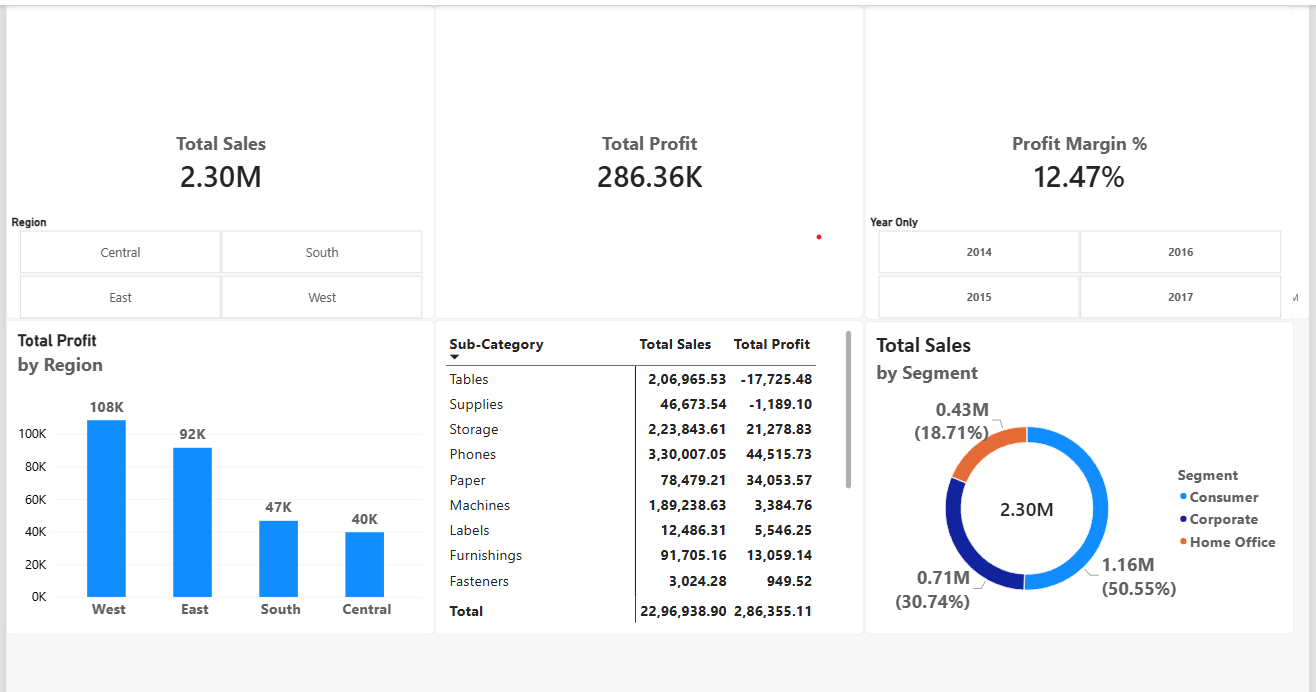

Layout of this report page (visuals, bound fields, positions):
{"tool":"powerbi","page":{"name":"Page 1","canvas":[1920,1080],"ordinal":0},"visuals":[{"type":"cardVisual","fields":{"Data":["Clean_Organized_superstore_Data.Total Profit"]},"box":[631.9,0,631.5,462.9],"z":0},{"type":"cardVisual","fields":{"Data":["Clean_Organized_superstore_Data.Total Sales"]},"box":[0,0,631.5,462.9],"z":1000},{"type":"barChart","fields":{"Category":["Clean_Organized_superstore_Data.Region"],"Y":["Clean_Organized_superstore_Data.Total Sales"]},"box":[1263.9,2.2,655.7,461],"z":2000},{"type":"cardVisual","fields":{"Data":["Clean_Organized_superstore_Data.Profit Margin %"]},"box":[1263.9,0,631,463],"z":3000},{"type":"clusteredColumnChart","fields":{"Category":["Clean_Organized_superstore_Data.Region"],"Y":["Clean_Organized_superstore_Data.Total Profit"]},"box":[0,463.1,631,463],"z":4000},{"type":"pivotTable","fields":{"Rows":["Clean_Organized_superstore_Data.Sub-Category"],"Values":["Clean_Organized_superstore_Data.Total Sales","Clean_Organized_superstore_Data.Total Profit"]},"box":[631.9,463.1,631,463],"z":5000},{"type":"donutChart","fields":{"Category":["Clean_Organized_superstore_Data.Segment"],"Y":["Clean_Organized_superstore_Data.Total Sales"]},"box":[1263.9,465.3,631.9,461],"z":6000},{"type":"slicer","fields":{"Values":["Clean_Organized_superstore_Data.Region"]},"box":[0,309.5,631.9,153.7],"z":7000},{"type":"slicer","fields":{"Values":["Clean_Organized_superstore_Data.Year Only"]},"box":[1263.9,309.5,631.9,153.7],"z":8000}]}

Visuals, with their boxes on the page's 1920x1080 design canvas (x1, y1, x2, y2). These are canvas units, not pixel positions in the 1316x692 screenshot, which may show the page scaled, cropped or inside an application window:
cardVisual - Clean_Organized_superstore_Data.Total Profit: 632,0,1263,463
cardVisual - Clean_Organized_superstore_Data.Total Sales: 0,0,632,463
barChart - Clean_Organized_superstore_Data.Region x Clean_Organized_superstore_Data.Total Sales: 1264,2,1920,463
cardVisual - Clean_Organized_superstore_Data.Profit Margin %: 1264,0,1895,463
clusteredColumnChart - Clean_Organized_superstore_Data.Region x Clean_Organized_superstore_Data.Total Profit: 0,463,631,926
pivotTable - Clean_Organized_superstore_Data.Sub-Category x Clean_Organized_superstore_Data.Total Sales: 632,463,1263,926
donutChart - Clean_Organized_superstore_Data.Segment x Clean_Organized_superstore_Data.Total Sales: 1264,465,1896,926
slicer - Clean_Organized_superstore_Data.Region: 0,310,632,463
slicer - Clean_Organized_superstore_Data.Year Only: 1264,310,1896,463
